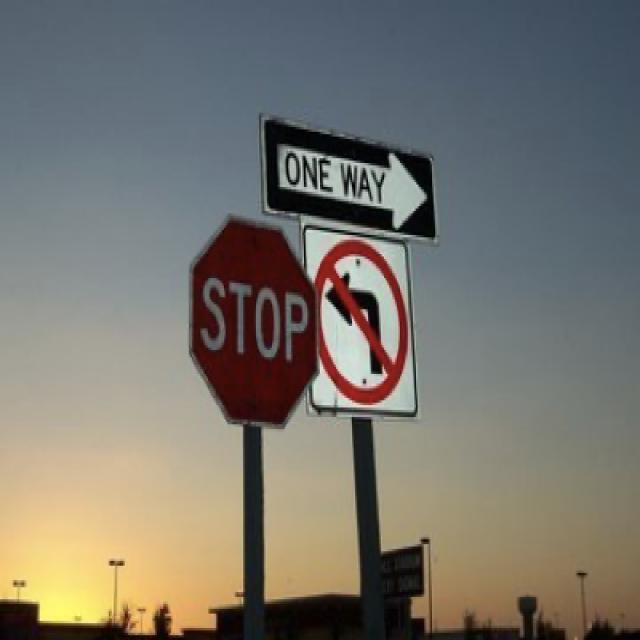stop: (186, 212, 320, 432)
